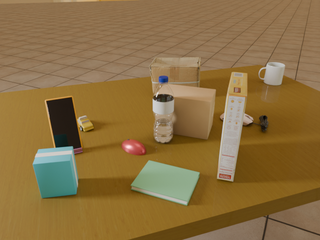book: (131, 160, 199, 205)
bottle: (153, 75, 174, 143)
box: (217, 72, 247, 181), (168, 84, 216, 139), (33, 147, 78, 198), (149, 57, 201, 92)
cup: (259, 62, 285, 85)
mouse: (220, 113, 253, 125), (122, 139, 146, 155)
phone: (45, 96, 82, 149)
toy_car: (78, 116, 94, 131)
